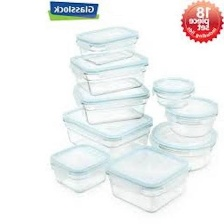plastic_box: (101, 144, 194, 216), (57, 101, 156, 160), (65, 45, 153, 99), (68, 74, 153, 127), (144, 118, 221, 176), (46, 139, 114, 196), (72, 20, 142, 67), (160, 92, 222, 140), (148, 73, 199, 111)
